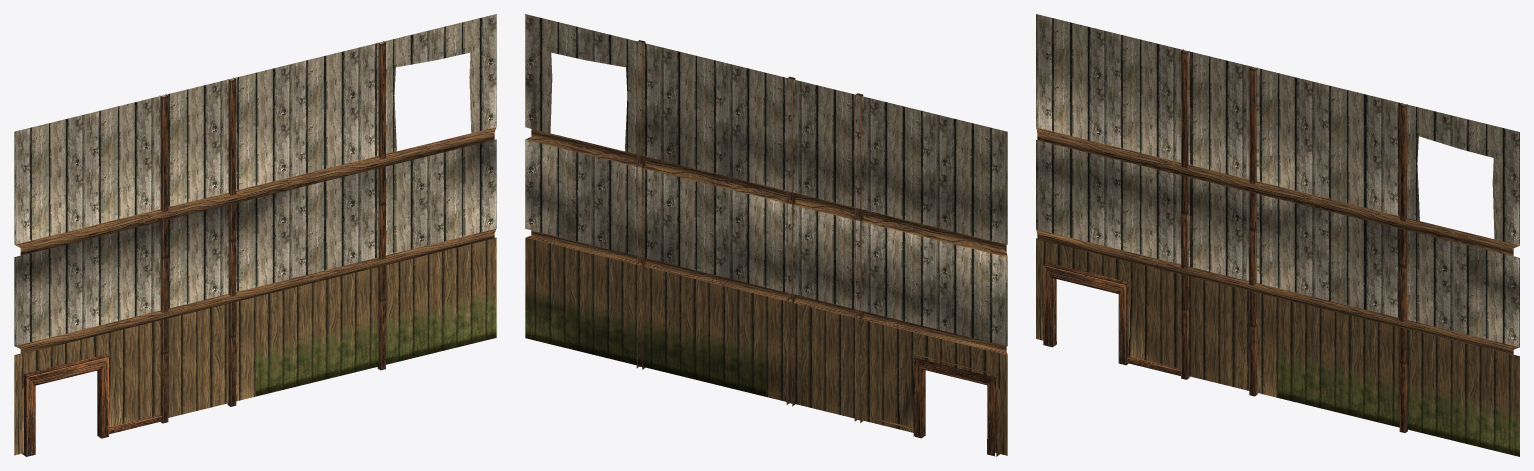
File: LAKETOWN_WAREHOUSE3_PS_WH3_FRONTWALL8847__GX.fbx
3 views of the same model, side by side, from view 1: azimuth 30°, elevation 25°; view 2: azimuth 150°, elevation 25°; view 3: azimuth 330°, elevation 25° (orthographic).
Visible parts, largest first — view 1: LAKETOWN_WAREHOUSE3_PS_WH3_FRONTWALL8847__GX; view 2: LAKETOWN_WAREHOUSE3_PS_WH3_FRONTWALL8847__GX; view 3: LAKETOWN_WAREHOUSE3_PS_WH3_FRONTWALL8847__GX.
Boxes of the visible parts, left/top/right/bottom form: LAKETOWN_WAREHOUSE3_PS_WH3_FRONTWALL8847__GX: left=14, top=14, right=496, bottom=456; LAKETOWN_WAREHOUSE3_PS_WH3_FRONTWALL8847__GX: left=525, top=14, right=1007, bottom=456; LAKETOWN_WAREHOUSE3_PS_WH3_FRONTWALL8847__GX: left=1036, top=14, right=1519, bottom=456.
Bounding box in the file's own units: 200456 × 129590 × 3243.
Materials: 6 (6 with a texture image).
